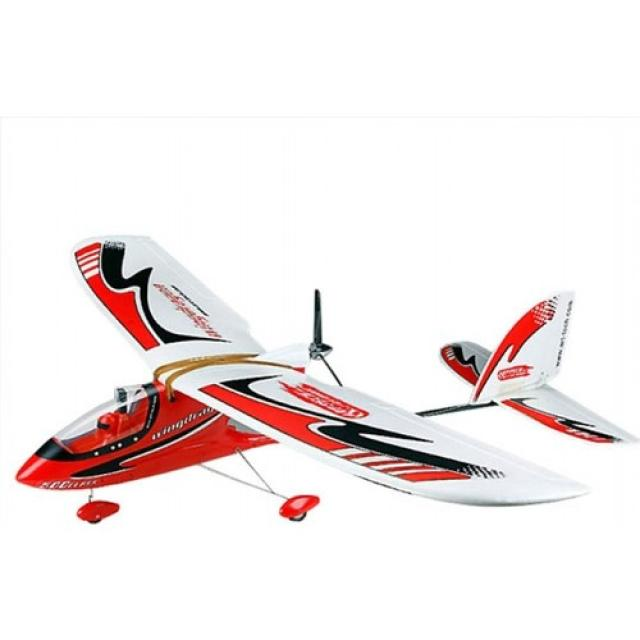iha: (8, 233, 634, 536)
